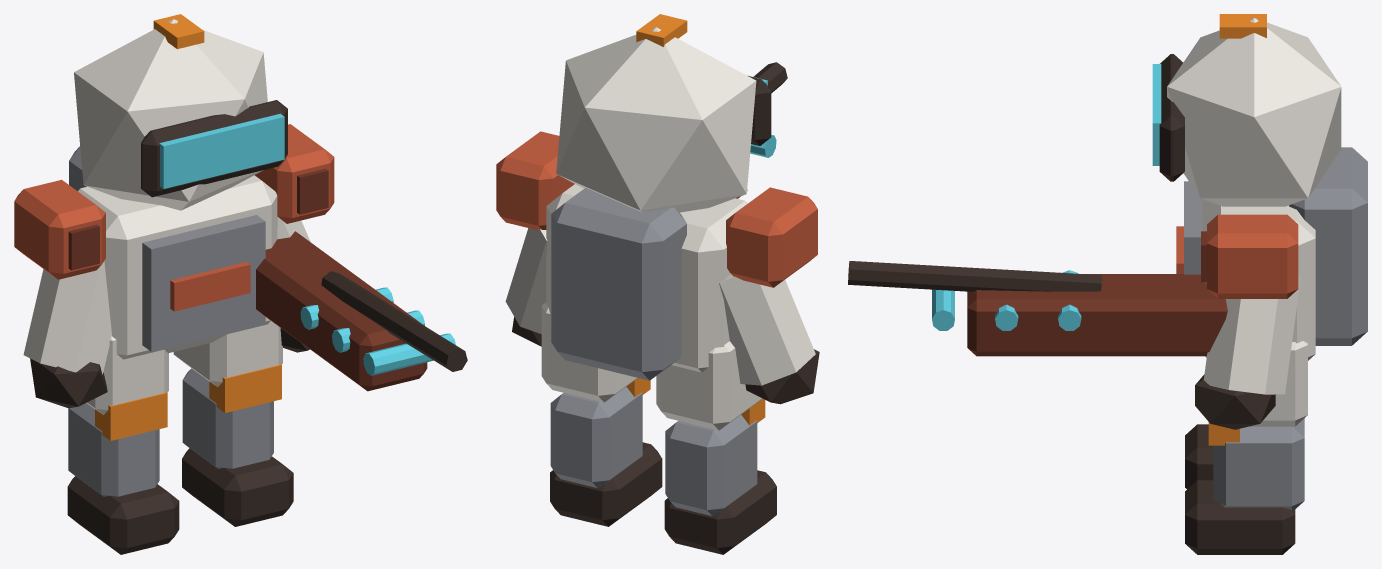
The model's file is u_crossbowman.glb.
The picture shows the model from 3 angles, left to right: view 1: azimuth 30°, elevation 25°; view 2: azimuth 150°, elevation 25°; view 3: azimuth 270°, elevation 25°; orthographic projection.
Parts seen in each view (by area): view 1: u_crossbowman; view 2: u_crossbowman; view 3: u_crossbowman.
Boxes of the visible parts, x1,y1,x2,y2 form: u_crossbowman: (14,14,467,554); u_crossbowman: (496,14,819,554); u_crossbowman: (848,14,1367,554).
Bounding box in the file's own units: 0.1989 × 0.32 × 0.3029.
